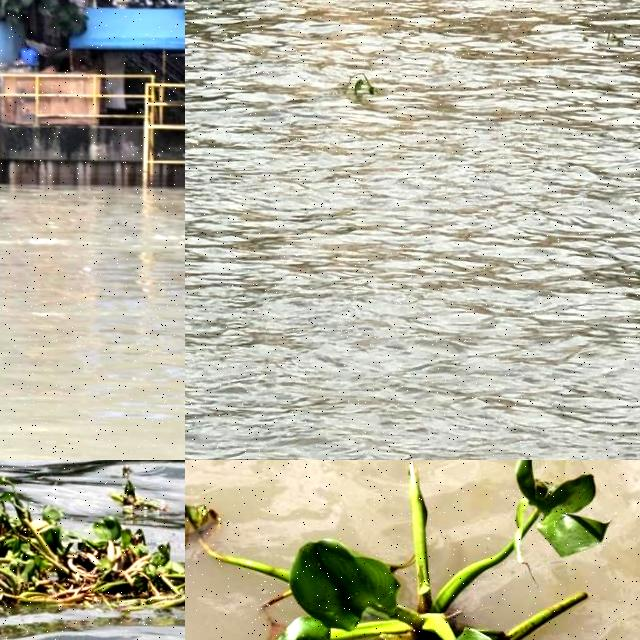water-hyacinth: (186, 461, 625, 640), (1, 470, 186, 608)
